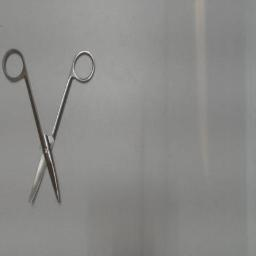Curved Mayo Scissors: (1, 44, 99, 208)
